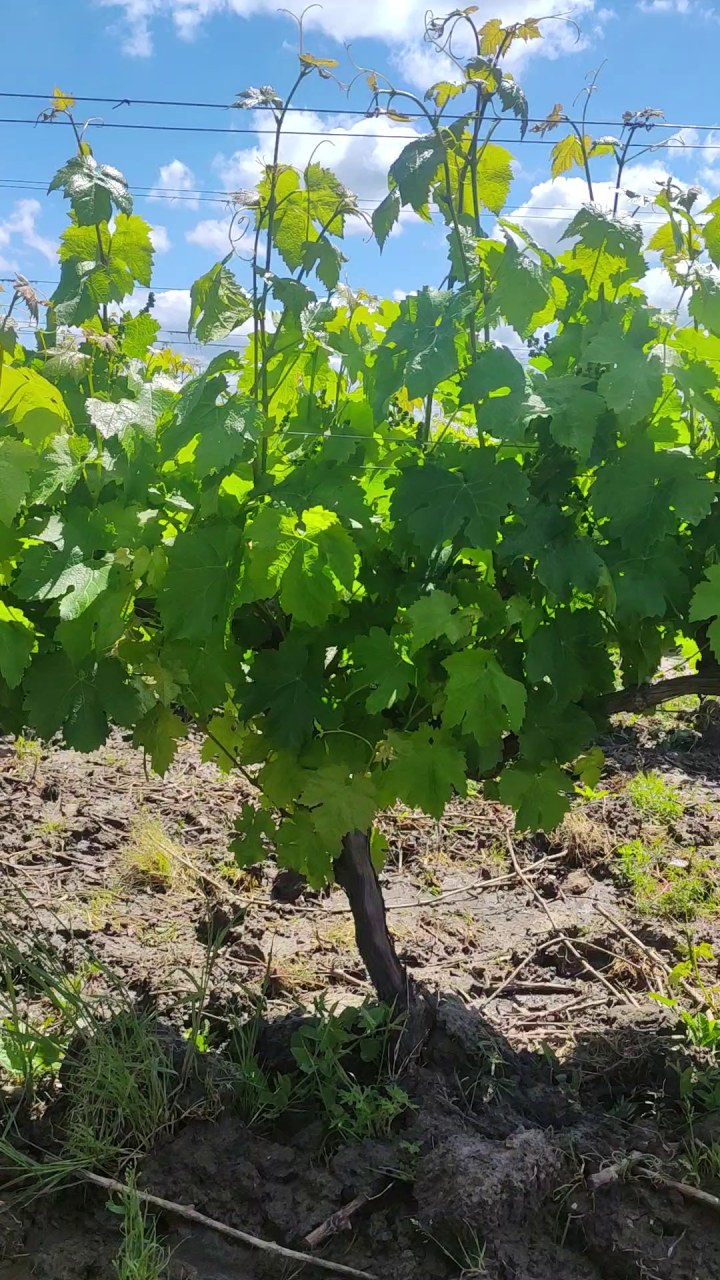vine_trunk: (334, 829, 406, 1004)
